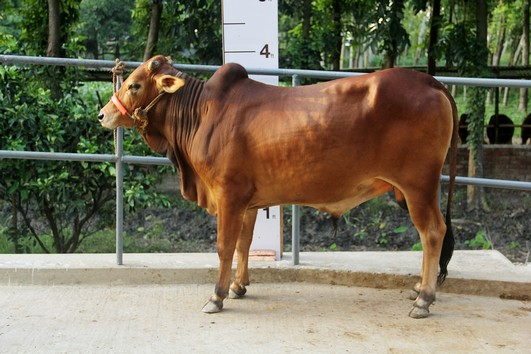cow: (93, 47, 473, 325)
